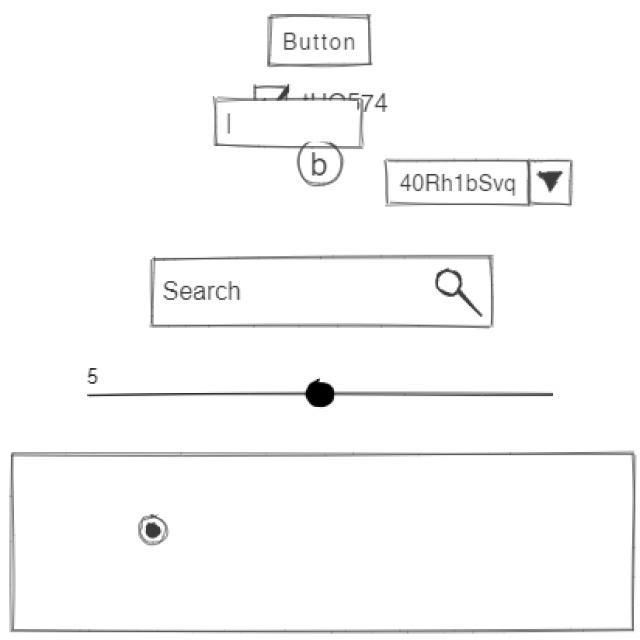button: (267, 13, 375, 69)
container: (9, 449, 639, 635)
icon-button: (297, 140, 347, 190)
input: (212, 96, 368, 152)
radio: (135, 513, 173, 549)
search: (148, 254, 496, 331)
select: (384, 158, 576, 209)
slider: (111, 378, 559, 410)
